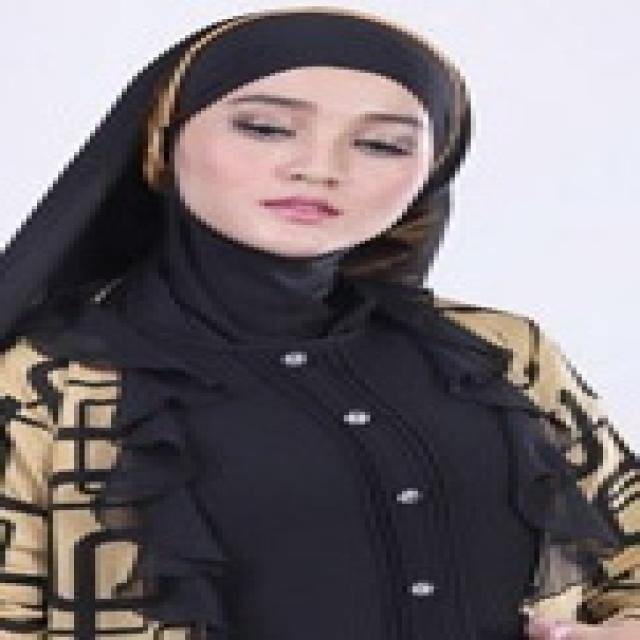head: (154, 5, 472, 267)
